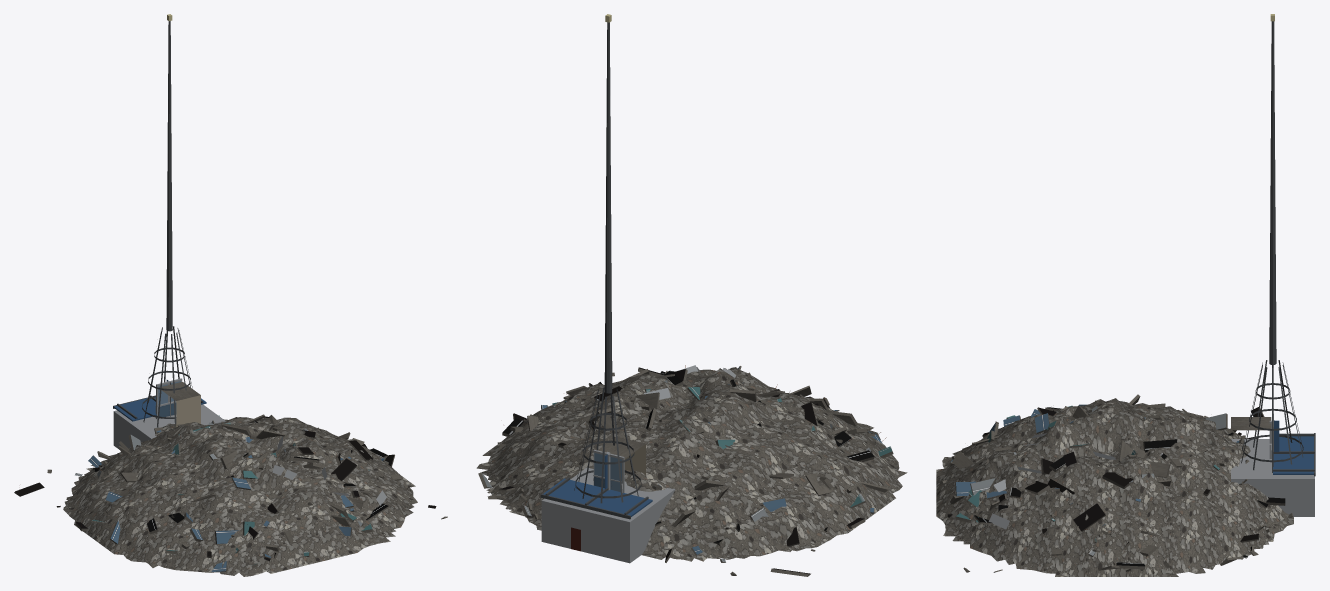
Rendered from bld_gl.glb.
The picture shows the model from 3 angles, left to right: view 1: azimuth 30°, elevation 25°; view 2: azimuth 150°, elevation 25°; view 3: azimuth 270°, elevation 25°; orthographic projection. The views are drawn at different scales.
Visible parts, largest first — view 1: rubble_xl, spire, core_top, bay_blue_entry_s2a, bay_blue_entry_s0; view 2: rubble_xl, core_top, spire, bay_blue_entry_s0, bay_blue_entry_s2a, rubble_l; view 3: rubble_xl, spire, core_top, bay_blue_entry_s0, bay_blue_entry_s2a.
Boxes of the visible parts, box(x1,y1,x2,y2) form: rubble_xl: box(14, 414, 447, 576); spire: box(142, 14, 192, 427); core_top: box(113, 404, 225, 449); bay_blue_entry_s2a: box(159, 381, 200, 426); bay_blue_entry_s0: box(113, 381, 206, 421); rubble_xl: box(476, 365, 907, 576); core_top: box(541, 467, 675, 563); spire: box(574, 14, 641, 503); bay_blue_entry_s0: box(540, 453, 652, 519); bay_blue_entry_s2a: box(598, 437, 645, 475); rubble_l: box(486, 443, 749, 562); rubble_xl: box(936, 394, 1288, 576); spire: box(1241, 14, 1303, 472); core_top: box(1231, 439, 1314, 516); bay_blue_entry_s0: box(1273, 433, 1315, 476); bay_blue_entry_s2a: box(1231, 417, 1271, 430).
Size of what is drawn, in the model's own units: 38.17 by 50.76 by 36.05.
Materials: 1 (1 with a texture image).
